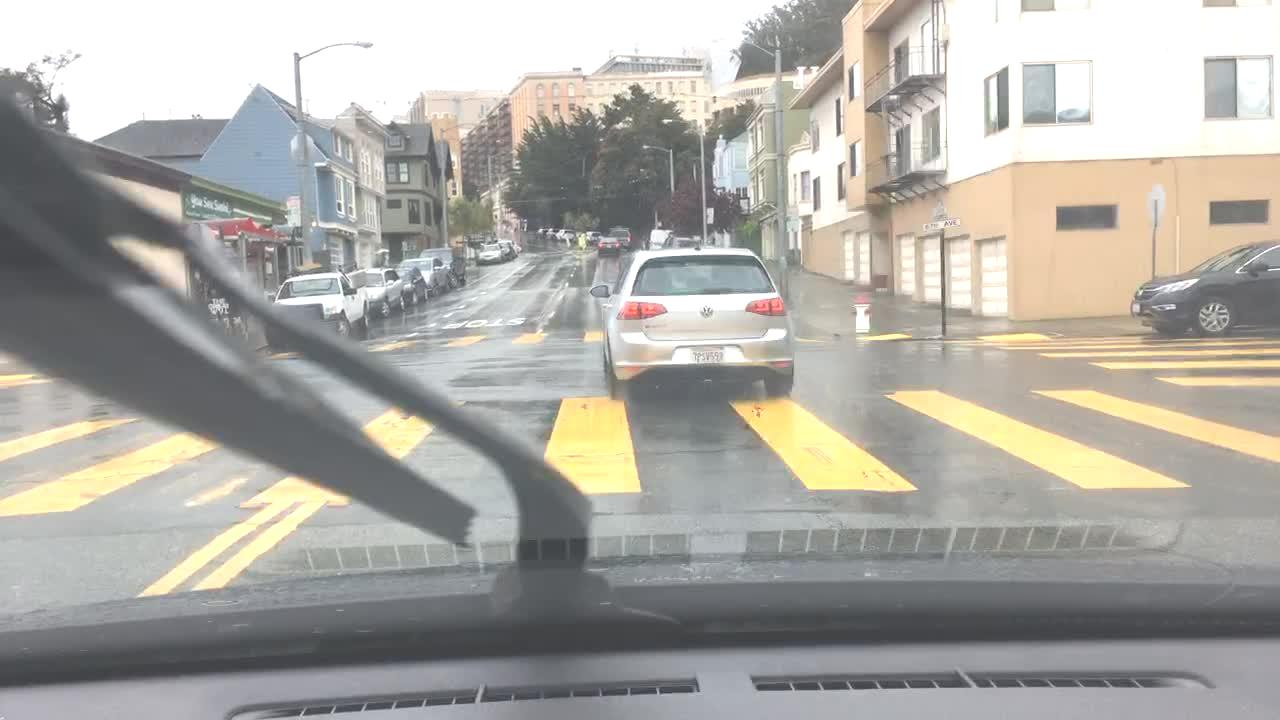Volkswagen: (700, 303, 719, 323)
